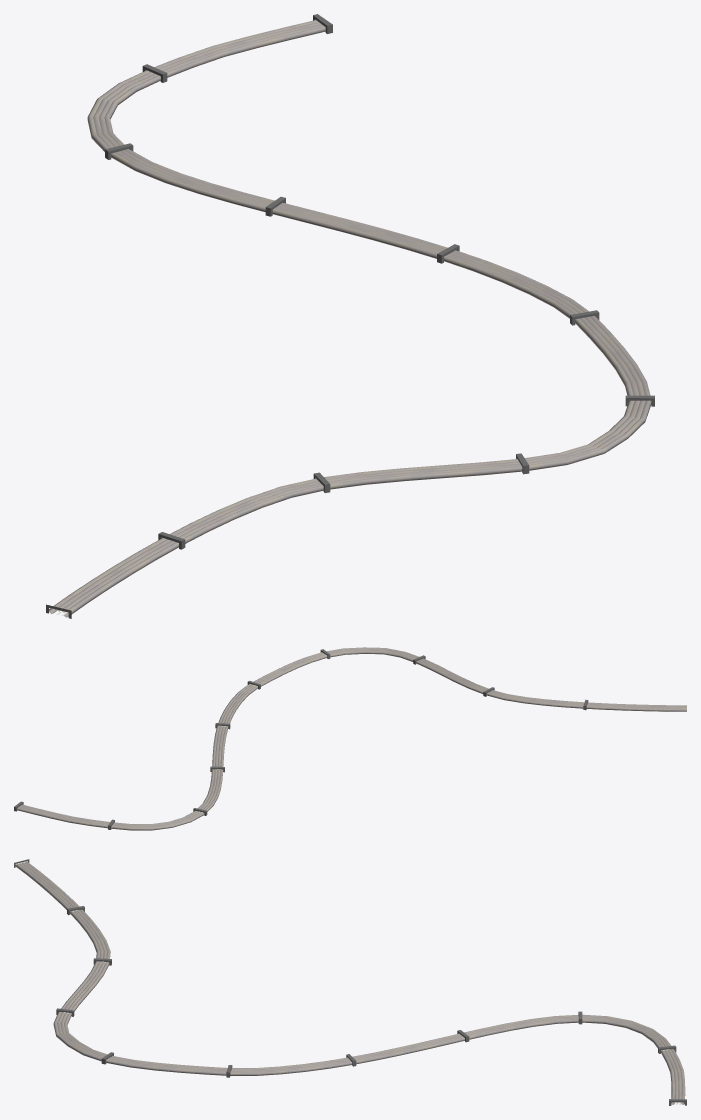
Rendered from Test_Rope2__4.fbx.
3 views of the same model, one above another, from view 1: azimuth 30°, elevation 25°; view 2: azimuth 150°, elevation 25°; view 3: azimuth 270°, elevation 25° (orthographic). The views are drawn at different scales.
Visible parts, largest first — view 1: Mat_Tile_Color_07 1, Mat_Tile_Color_07 2, Mat_Tile_Color_07 3, Mat_Tile_Color_01 1; view 2: Mat_Tile_Color_07 1, Mat_Tile_Color_07 2, Mat_Tile_Color_07 3, Mat_Tile_Color_01 1; view 3: Mat_Tile_Color_07 1, Mat_Tile_Color_07 2, Mat_Tile_Color_07 3, Mat_Tile_Color_01 1.
Part boxes in pixels (x1,y1,x2,y2): Mat_Tile_Color_07 1: (49,20,645,613); Mat_Tile_Color_07 2: (64,26,651,617); Mat_Tile_Color_07 3: (55,22,639,611); Mat_Tile_Color_01 1: (46,14,654,618); Mat_Tile_Color_07 1: (17,648,686,830); Mat_Tile_Color_07 2: (21,647,686,825); Mat_Tile_Color_07 3: (18,649,686,827); Mat_Tile_Color_01 1: (14,649,588,829); Mat_Tile_Color_07 1: (19,861,685,1104); Mat_Tile_Color_07 2: (15,863,674,1104); Mat_Tile_Color_07 3: (22,862,681,1099); Mat_Tile_Color_01 1: (14,859,686,1105).
Bounding box in the file's own units: 18.44 × 0.1815 × 21.7.
Materials: 5 (5 with a texture image).
